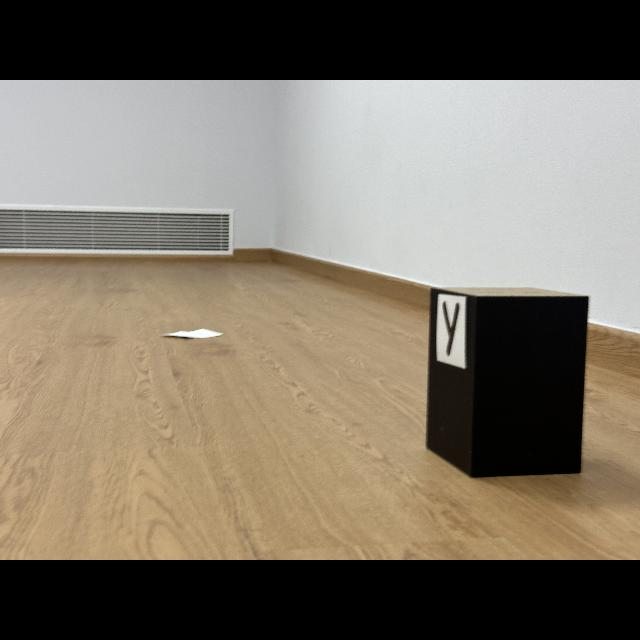Y: (442, 301, 460, 356)
